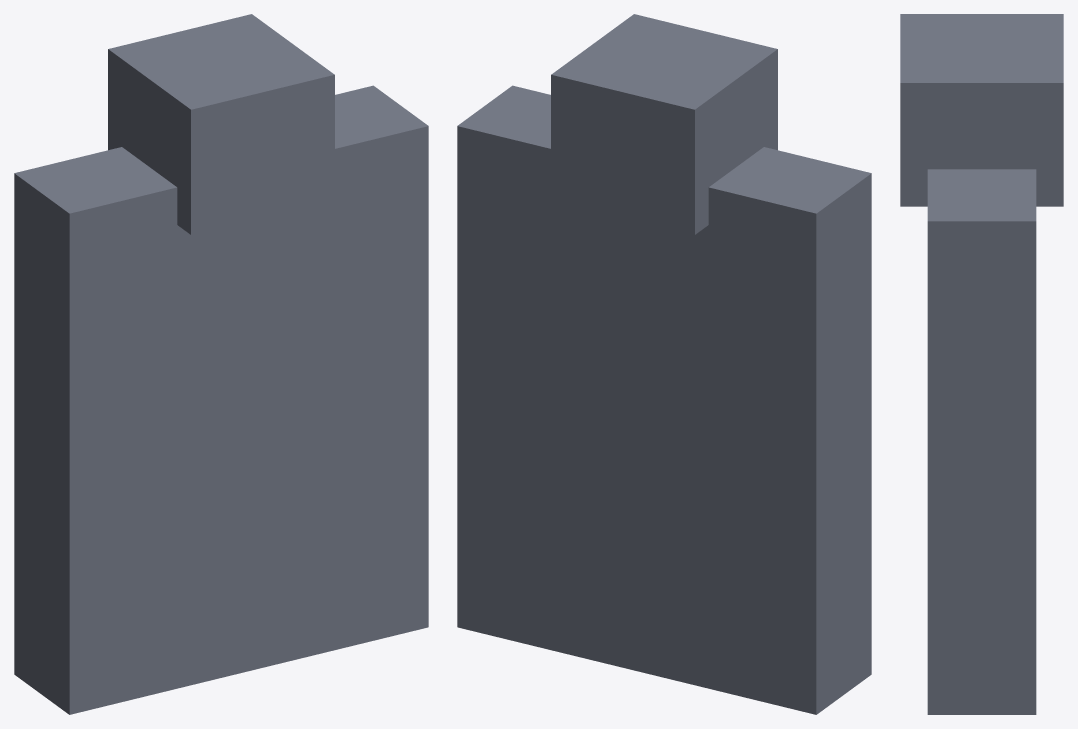
File: simple.glb
3 views of the same model, side by side, from view 1: azimuth 30°, elevation 25°; view 2: azimuth 150°, elevation 25°; view 3: azimuth 270°, elevation 25° (orthographic).
Parts seen in each view (by area): view 1: nanoLoomFrame, nanoLoomIntake; view 2: nanoLoomFrame, nanoLoomIntake; view 3: nanoLoomFrame, nanoLoomIntake.
Part boxes in pixels (box(x1,y1,x2,y2)): nanoLoomFrame: box(14, 85, 428, 714); nanoLoomIntake: box(108, 14, 334, 234); nanoLoomFrame: box(457, 85, 871, 714); nanoLoomIntake: box(551, 14, 777, 234); nanoLoomFrame: box(927, 169, 1036, 714); nanoLoomIntake: box(900, 14, 1063, 206).
Size of the model in its own units: 3 by 4.7 by 1.2.
